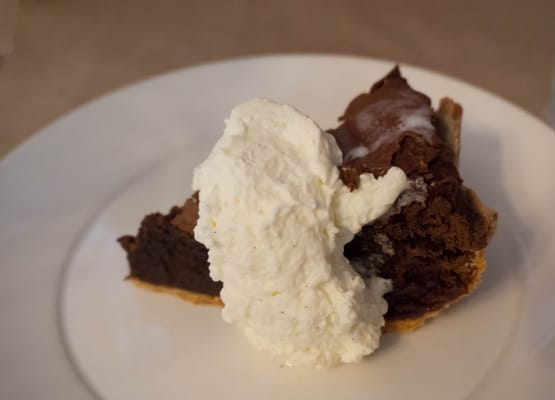sushi: (119, 78, 497, 369)
